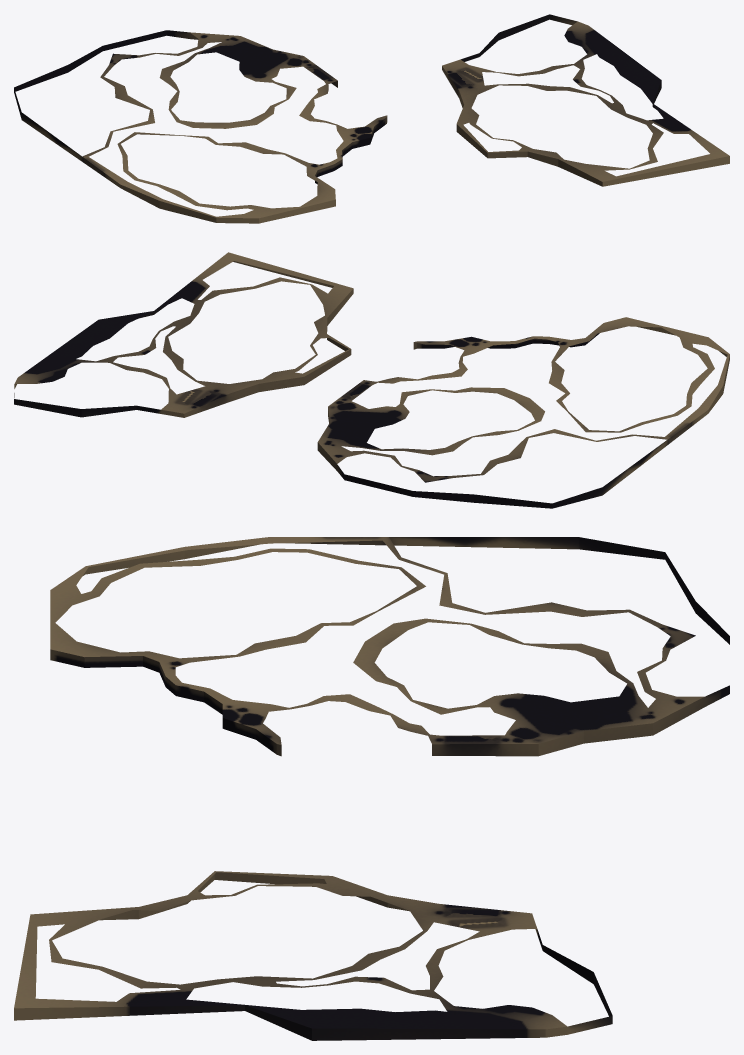
Rendered from Ground_01.FBX.
The picture shows the model from 3 angles, top to bottom: view 1: azimuth 30°, elevation 25°; view 2: azimuth 150°, elevation 25°; view 3: azimuth 270°, elevation 25°; orthographic projection. The views are drawn at different scales.
Parts seen in each view (by area): view 1: Ground_01; view 2: Ground_01; view 3: Ground_01.
Part boxes in pixels (x1,y1,x2,y2): Ground_01: [14, 14, 729, 223]; Ground_01: [14, 252, 729, 508]; Ground_01: [14, 537, 729, 1040].
Bounding box in the file's own units: 37.19 × 3.14 × 26.33.
